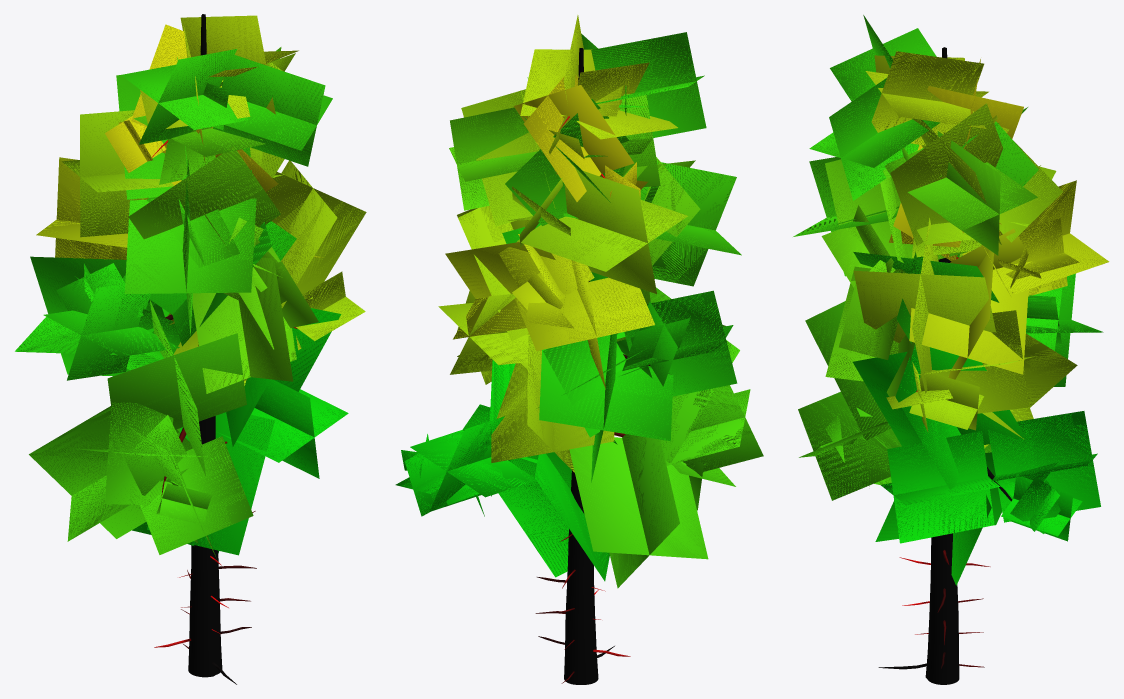
The model's file is Type_5_Tree_1.fbx.
3 renders of one model, left to right at view 1: azimuth 30°, elevation 25°; view 2: azimuth 150°, elevation 25°; view 3: azimuth 270°, elevation 25°, orthographic. The views are drawn at different scales.
Visible parts, largest first — view 1: Leaf, Trunk; view 2: Leaf, Trunk; view 3: Leaf, Trunk.
Boxes of the visible parts, box(x1,y1,x2,y2) form: Leaf: box(15, 15, 366, 558); Trunk: box(152, 14, 297, 684); Leaf: box(395, 15, 763, 588); Trunk: box(535, 48, 668, 684); Leaf: box(793, 15, 1109, 585); Trunk: box(878, 47, 1011, 684).
Size of the model in its own units: 2378 by 5081 by 2286.
